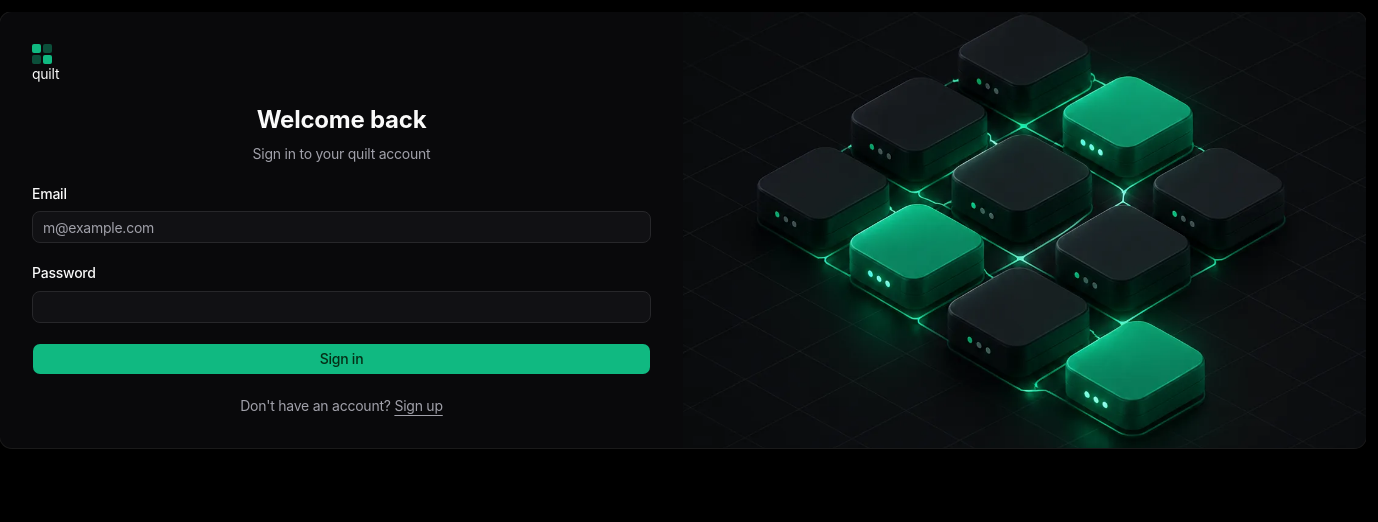
LoginForm › shows validation errors and does not submit invalid input
In the field labelled "Email": coordinates (342, 227) [32,211,651,243], type "ada@example"
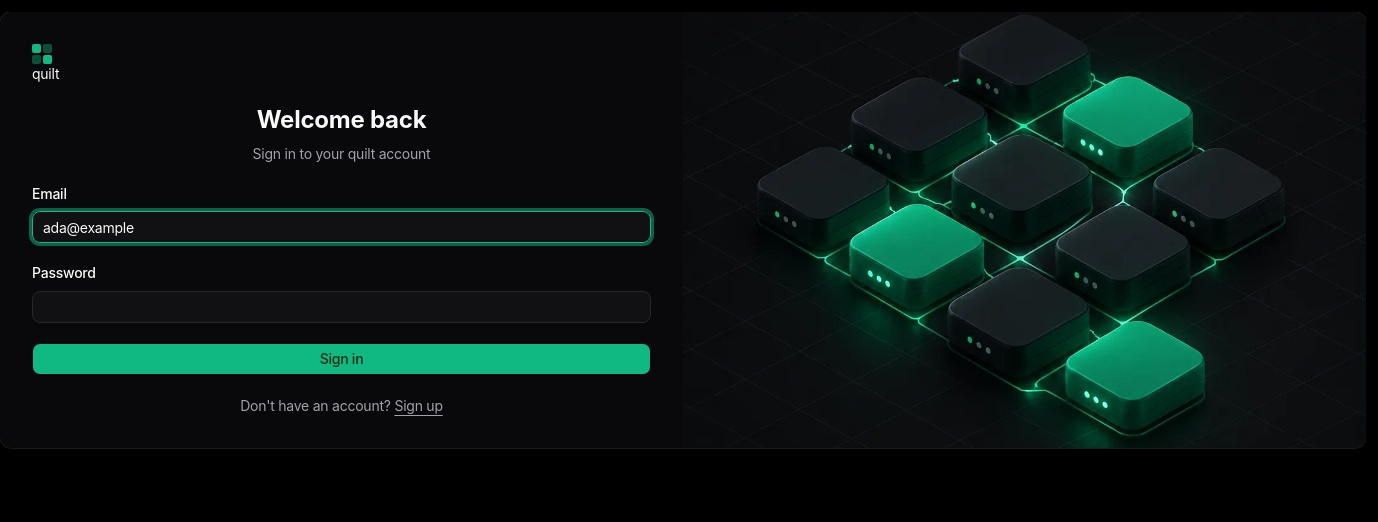
In the password field labelled "Password": coordinates (342, 306) [32,290,651,322], type "short"
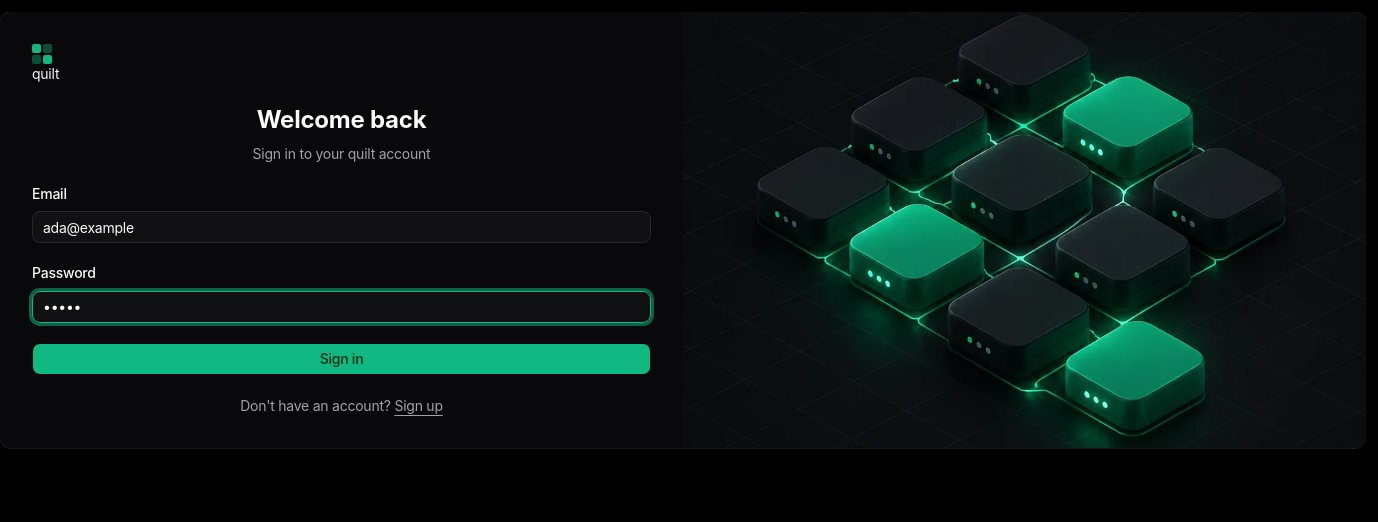
Click the button "Sign in": coordinates (342, 358) [32,342,651,374]
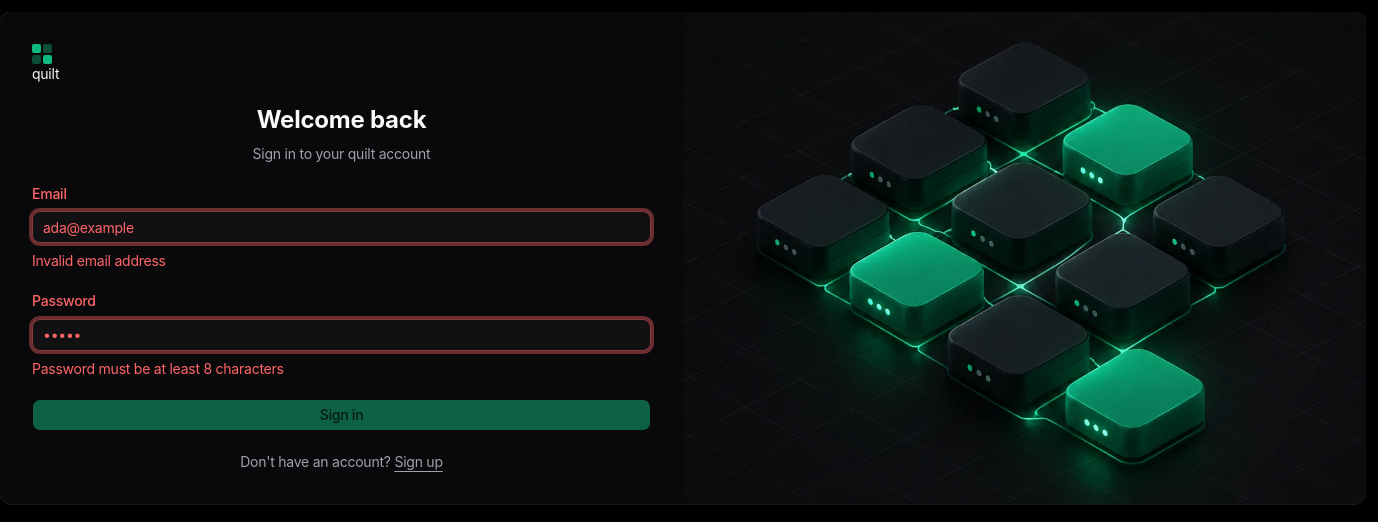
Check: the text "Invalid email address" is shown, box [32,252,166,269]
Check: the text "Password must be at least 8 characters" is shown, box [32,360,284,376]
